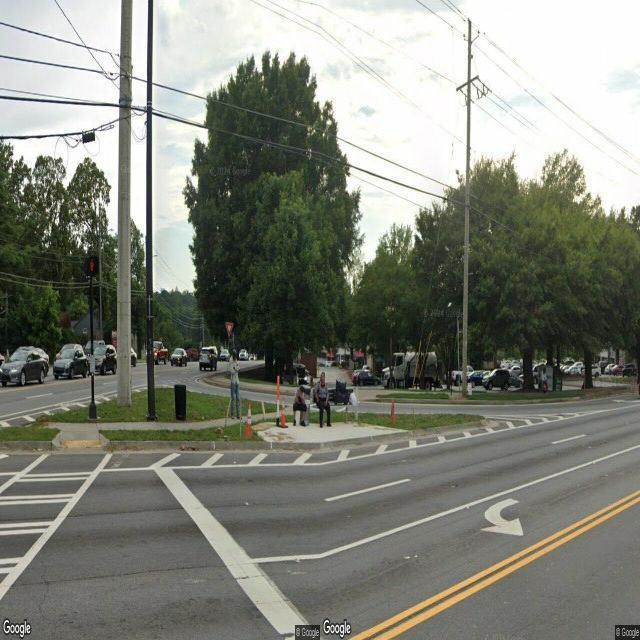seating: (310, 386, 355, 424)
trash_can: (174, 384, 187, 422), (304, 401, 310, 425)
